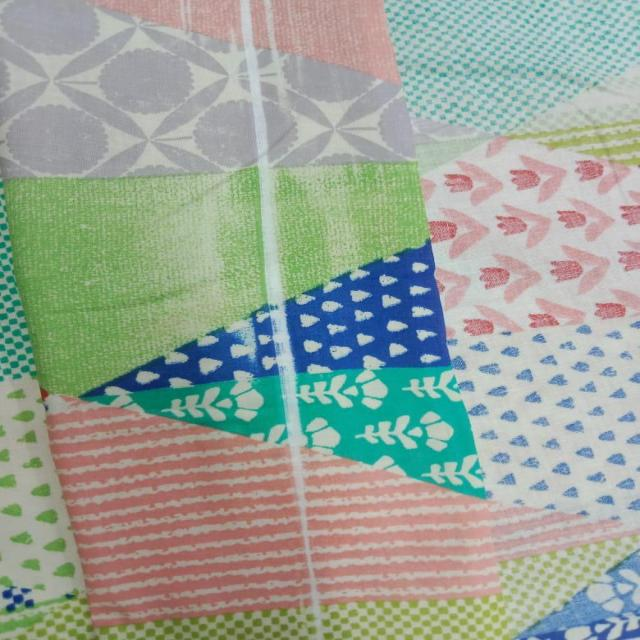selvet: (233, 4, 341, 640)
